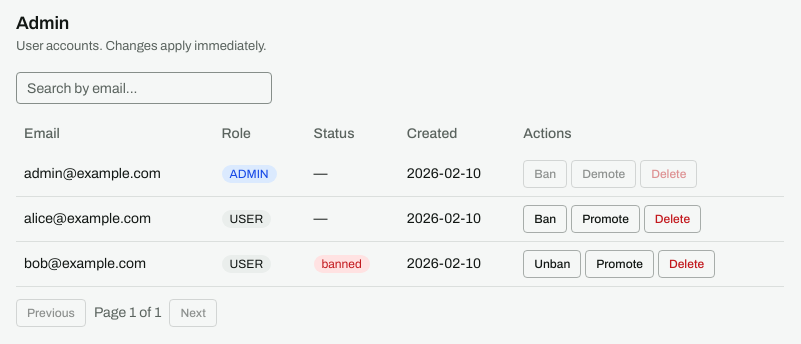
Test case: AdminPage › filters rows by email search
The width and height of the screenshot is (801, 344).
Expected: the text "alice@example.com" is shown, [16,197,214,242]
In the search field named "Search users by email": (144, 88) [16,72,272,104], type "bob"
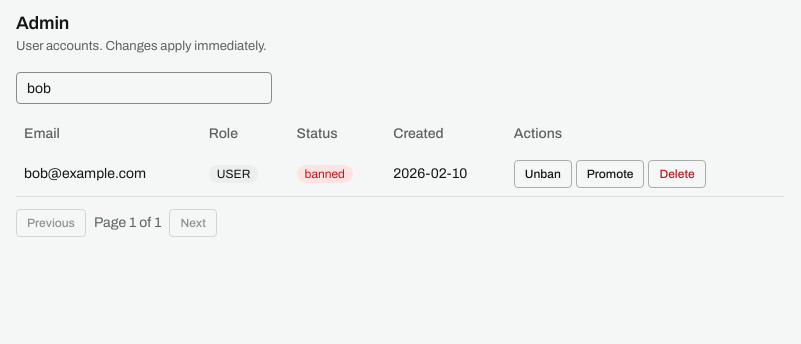
Expected: the text "bob@example.com" is shown, [16,152,201,197]
Expected: the text "alice@example.com" is gone
